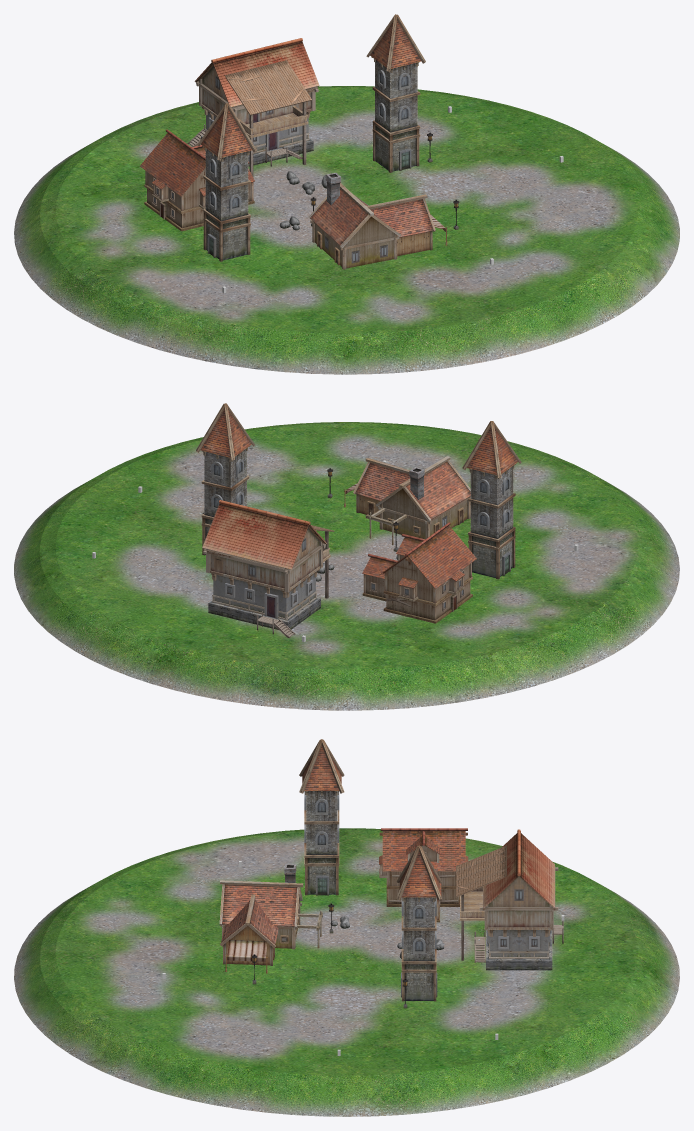
File: map.gltf
3 renders of one model, top to bottom at view 1: azimuth 30°, elevation 25°; view 2: azimuth 150°, elevation 25°; view 3: azimuth 270°, elevation 25°, orthographic.
Parts seen in each view (by area): view 1: Line002, House 2, House 3, Tower001, Tower, House1; view 2: Line002, House 2, House1, House 3, Tower001, Tower; view 3: Line002, House 2, House 3, Tower, Tower001, House1.
Part boxes in pixels (x1,y1,x2,y2): Line002: (14, 86, 679, 374); House 2: (187, 38, 319, 176); House 3: (308, 172, 447, 269); Tower001: (197, 103, 256, 261); Tower: (366, 14, 425, 172); House1: (140, 129, 254, 231); Line002: (14, 422, 679, 710); House 2: (202, 500, 334, 637); House1: (362, 522, 476, 623); House 3: (344, 456, 470, 545); Tower001: (462, 421, 521, 579); Tower: (196, 403, 254, 555); Line002: (14, 828, 679, 1116); House 2: (456, 829, 563, 970); House 3: (219, 864, 322, 973); Tower: (396, 845, 441, 1001); Tower001: (299, 739, 344, 895); House1: (379, 828, 468, 922).
Size of the model in its own units: 172 by 48.87 by 172.
